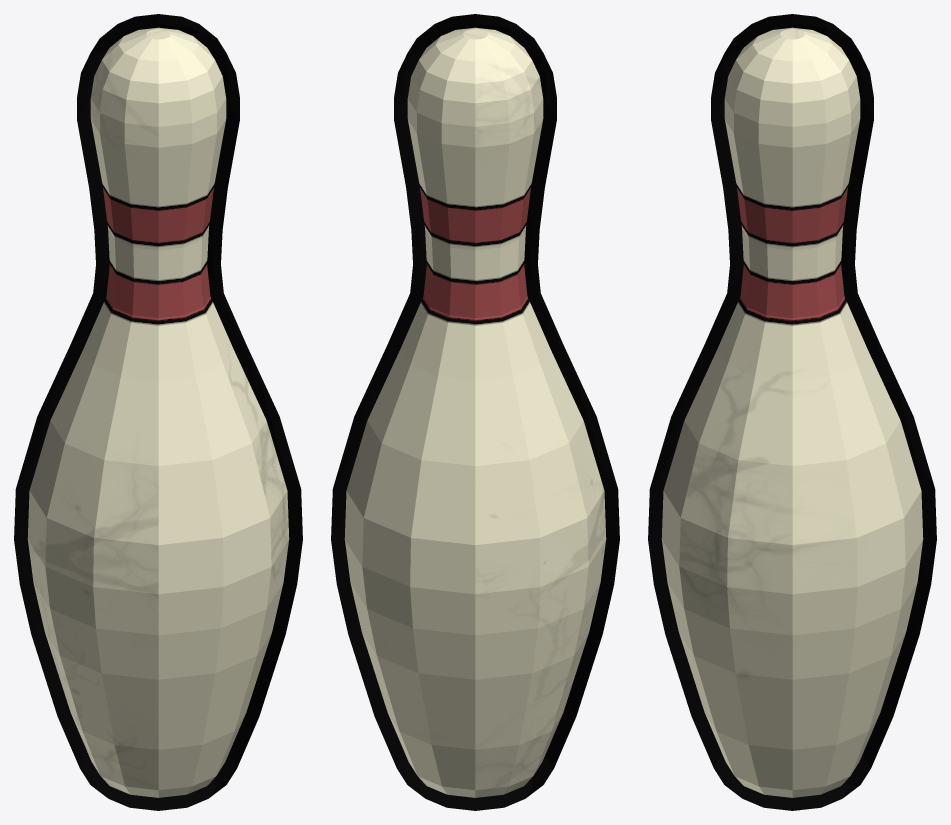
File: bowlingpin.fbx
3 renders of one model, left to right at view 1: azimuth 30°, elevation 25°; view 2: azimuth 150°, elevation 25°; view 3: azimuth 270°, elevation 25°, orthographic.
Visible parts, largest first — view 1: pCylinder1, pCylinder2; view 2: pCylinder1, pCylinder2; view 3: pCylinder1, pCylinder2.
Boxes of the visible parts, x1,y1,x2,y2 form: pCylinder1: (27,27,289,797); pCylinder2: (14,14,302,810); pCylinder1: (344,27,606,797); pCylinder2: (331,14,619,810); pCylinder1: (661,27,923,797); pCylinder2: (648,14,936,810).
Size of the model in its own units: 2.11 by 6.16 by 2.11.
2 materials, 1 textured.
